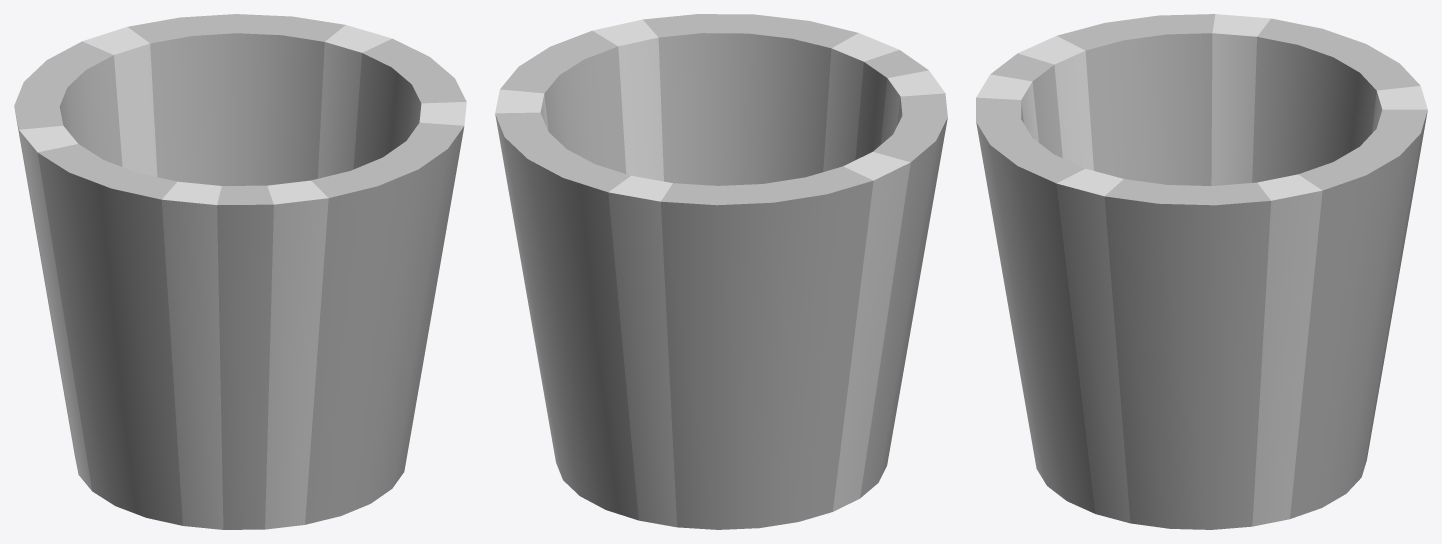
The model's file is Trash can 1.fbx.
3 renders of one model, left to right at view 1: azimuth 30°, elevation 25°; view 2: azimuth 150°, elevation 25°; view 3: azimuth 270°, elevation 25°, orthographic.
Parts seen in each view (by area): view 1: Trash can 1; view 2: Trash can 1; view 3: Trash can 1.
Part boxes in pixels (x1=…): Trash can 1: x1=14, y1=14, x2=466, y2=529; Trash can 1: x1=495, y1=14, x2=947, y2=529; Trash can 1: x1=976, y1=14, x2=1427, y2=529.
Bounding box in the file's own units: 64.69 × 55.25 × 64.56.
